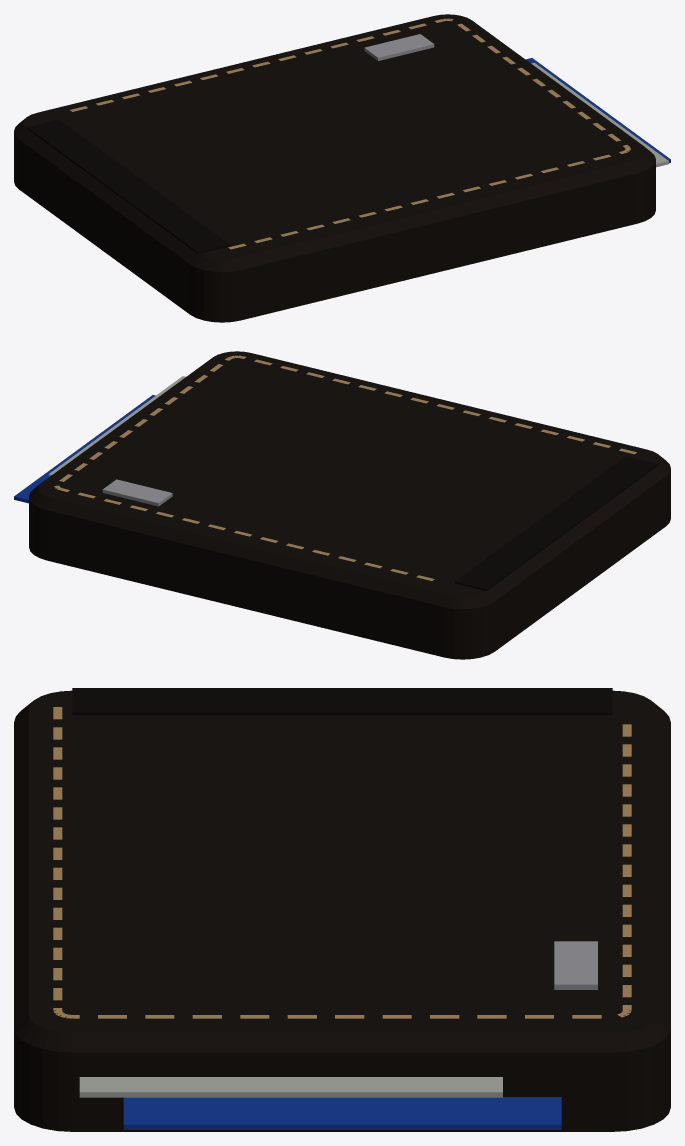
The model's file is wallet.obj.
3 renders of one model, top to bottom at view 1: azimuth 30°, elevation 25°; view 2: azimuth 150°, elevation 25°; view 3: azimuth 270°, elevation 25°, orthographic. The views are drawn at different scales.
Parts seen in each view (by area): view 1: Wallet; view 2: Wallet; view 3: Wallet.
Boxes of the visible parts, x1=… form: Wallet: x1=14, y1=14, x2=670, y2=322; Wallet: x1=14, y1=351, x2=670, y2=659; Wallet: x1=14, y1=688, x2=670, y2=1131.
Size of the model in its own units: 0.124 by 0.0148 by 0.09.
